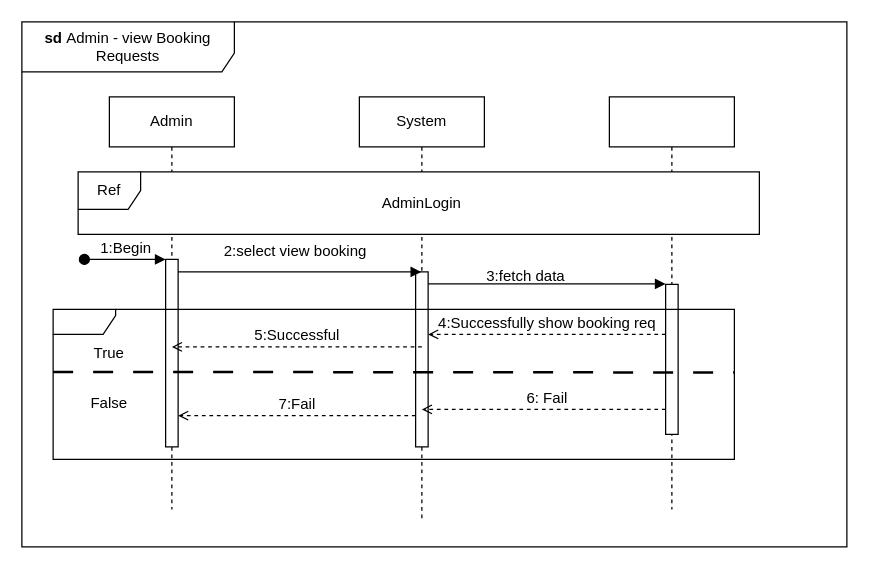
The diagram is 869 pixels wide and 569 high, and some of its shapes have lost their labels. Here are the shapes that lost their labels. From the top down, the box of each, then its label:
(608, 96, 734, 509): Database
(52, 308, 734, 459): alt
